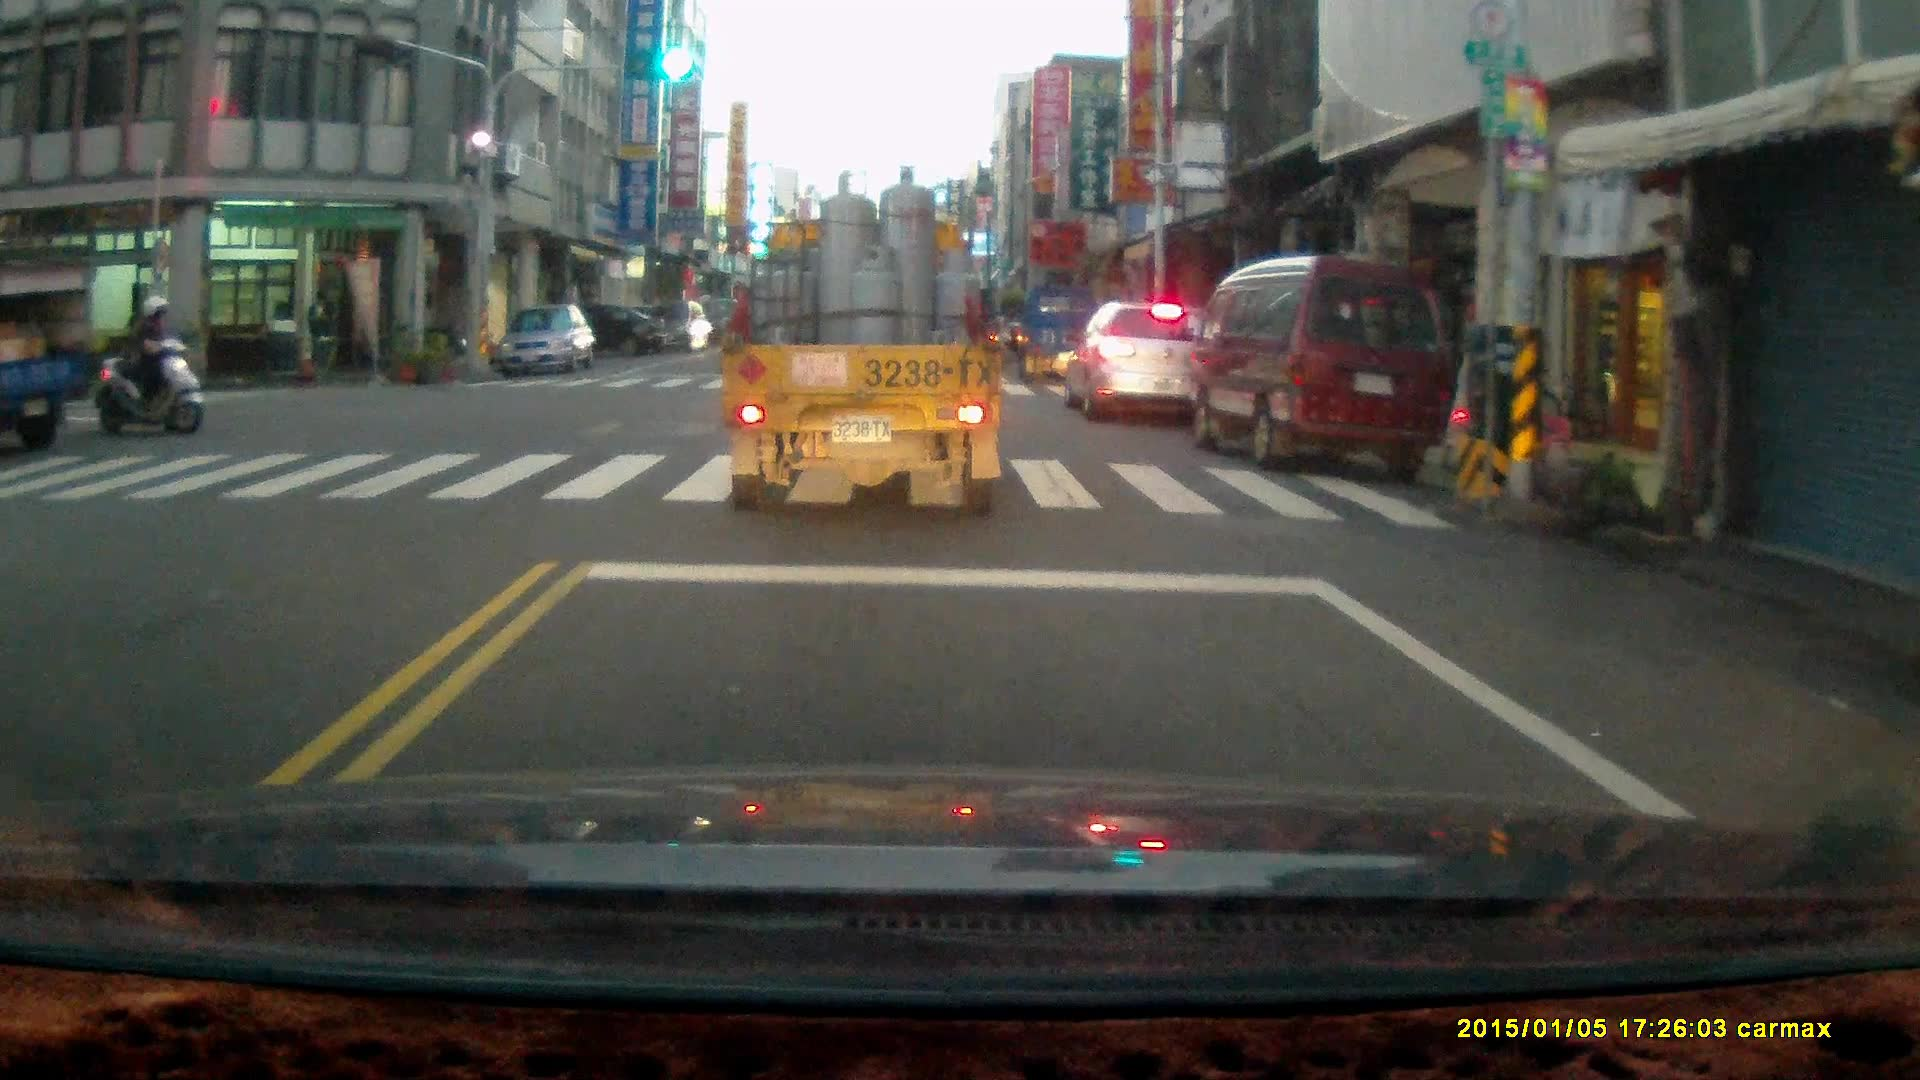pedestrian: (302, 284, 336, 385)
rider: (89, 291, 203, 432)
vehicle: (723, 162, 1009, 512), (1197, 248, 1464, 474), (1068, 289, 1231, 427), (1, 247, 91, 448), (1018, 284, 1103, 386), (494, 302, 597, 383), (533, 298, 666, 359), (623, 300, 711, 352)
